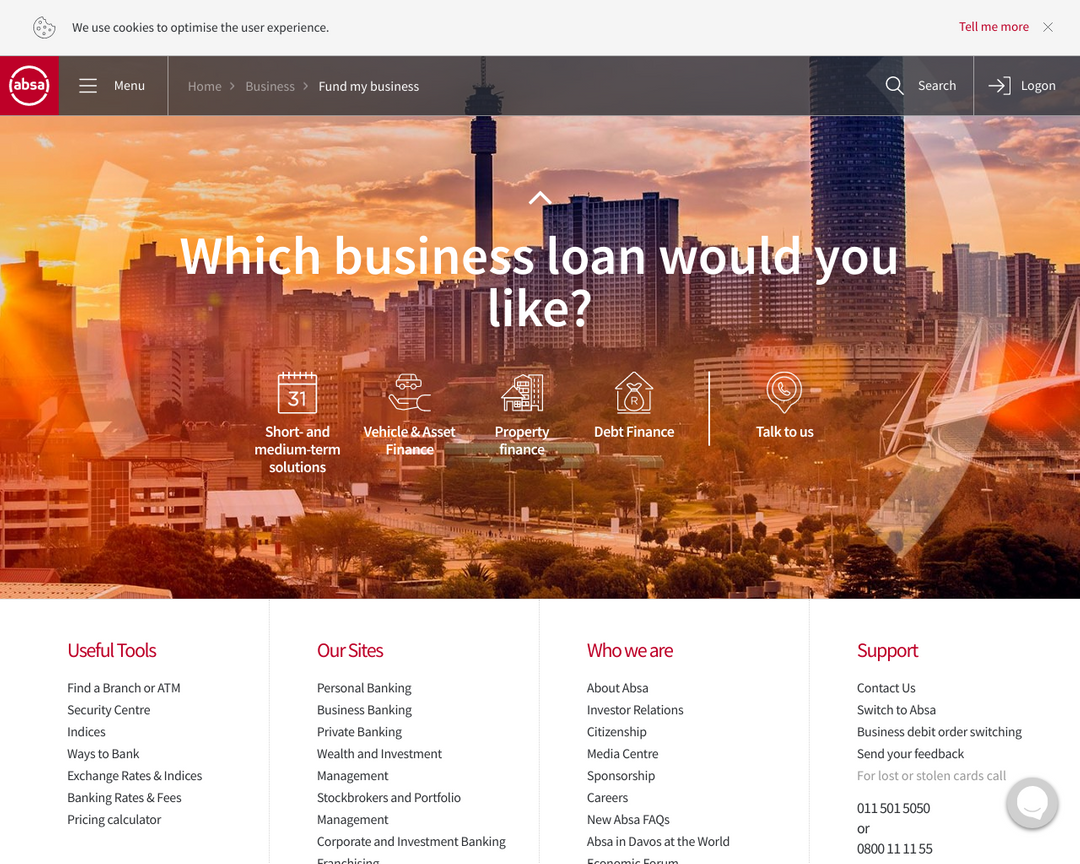ABSA: (8, 66, 51, 106)
